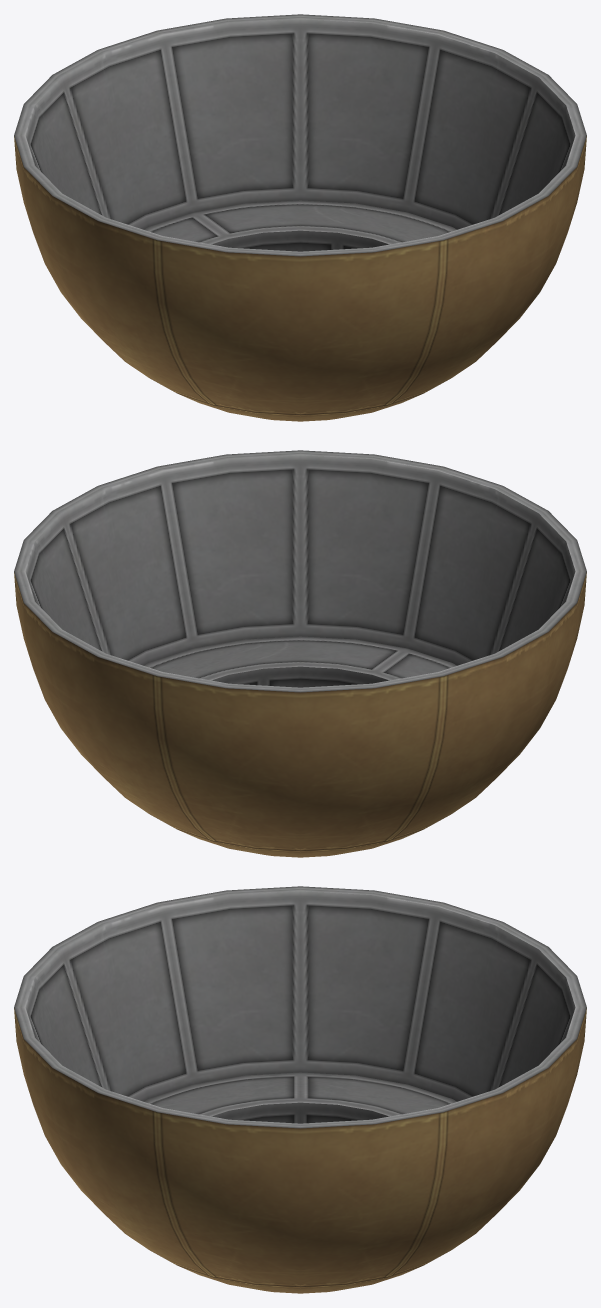
The model's file is 4m_hemisphere_heatshield_s1_1_band.obj.
The picture shows the model from 3 angles, top to bottom: view 1: azimuth 30°, elevation 25°; view 2: azimuth 150°, elevation 25°; view 3: azimuth 270°, elevation 25°; orthographic projection.
Visible parts, largest first — view 1: mesh1; view 2: mesh1; view 3: mesh1.
Boxes of the visible parts, bbox=[...] form: mesh1: bbox=[14, 14, 586, 421]; mesh1: bbox=[14, 450, 586, 857]; mesh1: bbox=[14, 886, 586, 1293].
Bounding box in the file's own units: 1.25 × 0.625 × 1.25.
1 material, 1 textured.
